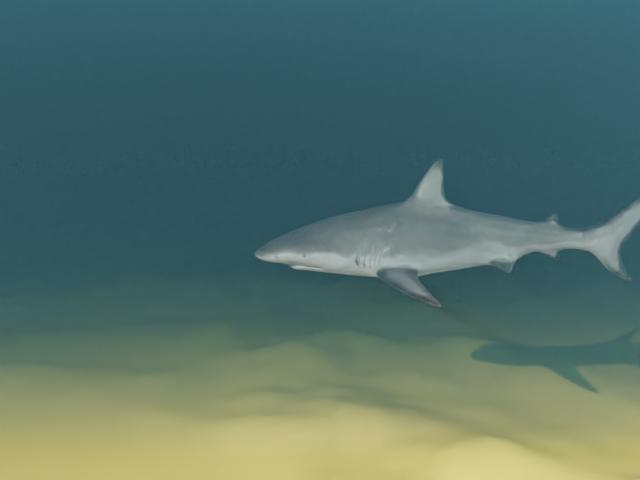Carribean Shark.001: (254, 159, 640, 307)
